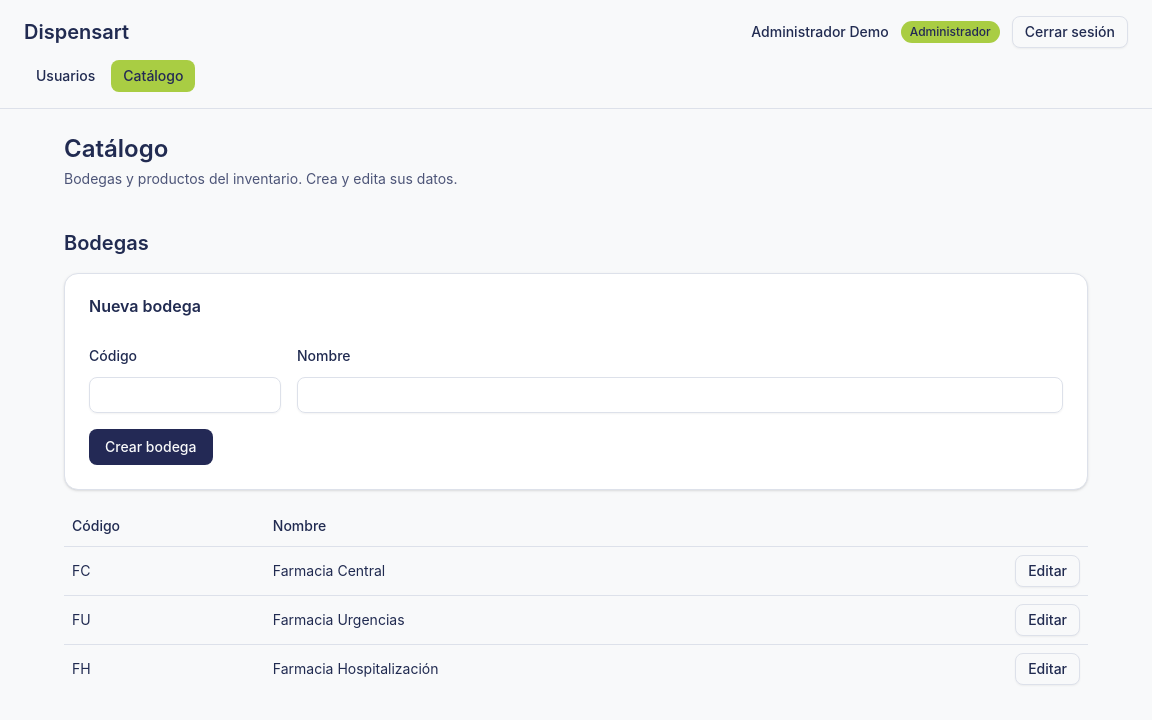
Test case: Alta de bodega › Bodega con campos vacíos (sin código): "Este campo es obligatorio." y ninguna petición
Expected: the table named "Bodegas registradas" is shown, [64,506,1088,693]
Type "Farmacia Consulta Externa" into the field labelled "Nombre".
click(680, 395); type("Farmacia Consulta Externa")  # box [297,377,1063,413]
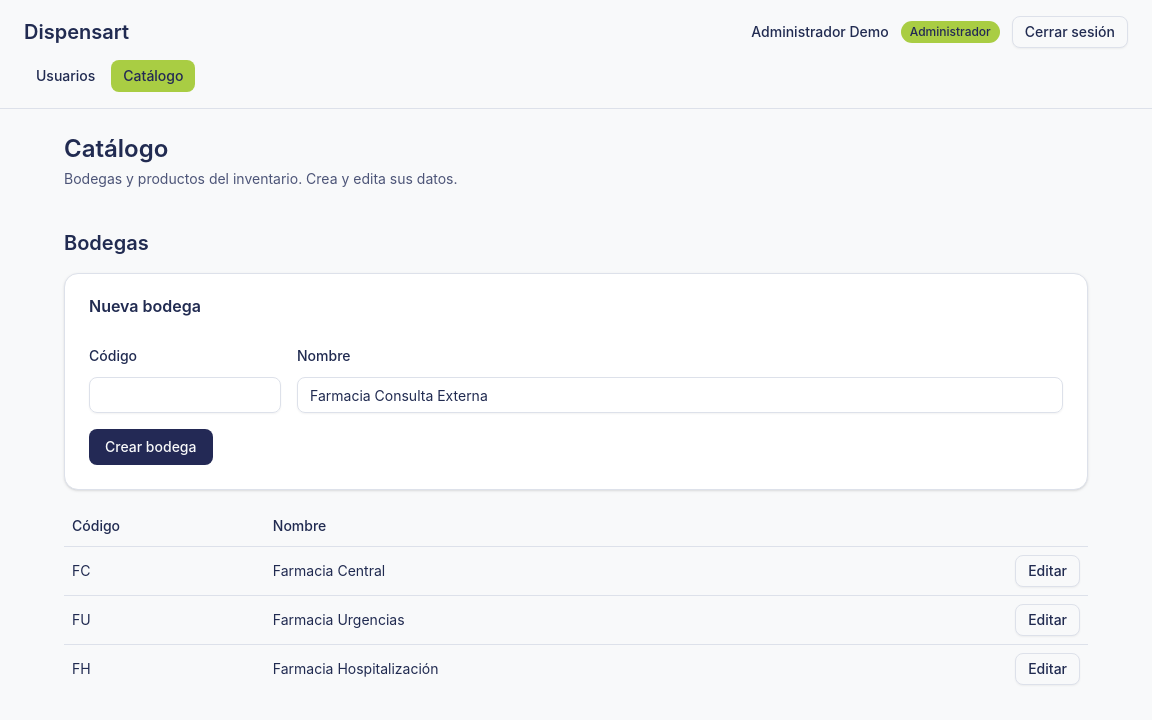
Click the button "Crear bodega".
click(151, 447)  # box [89,429,212,465]
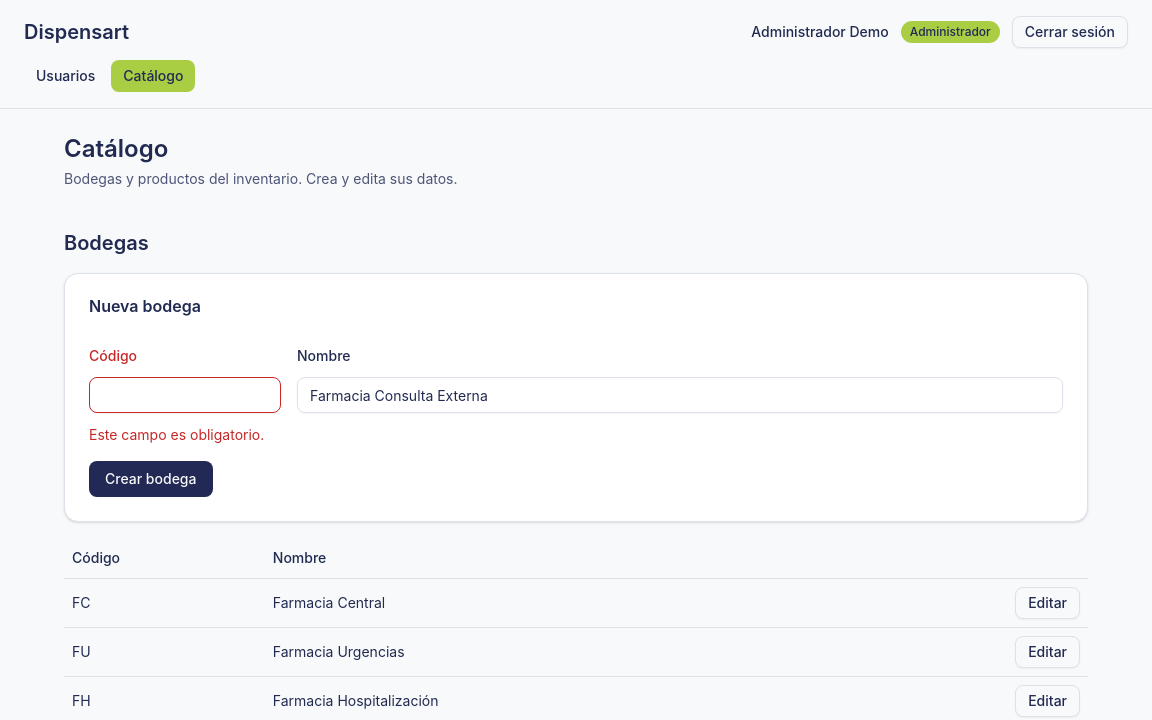
Expected: the text "Este campo es obligatorio." is shown once, [89,425,281,445]
